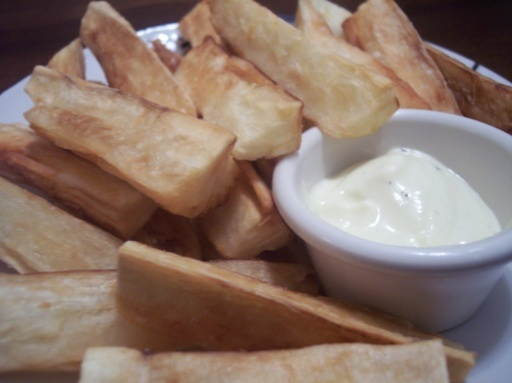background: (0, 0, 410, 229), (156, 60, 401, 147)
